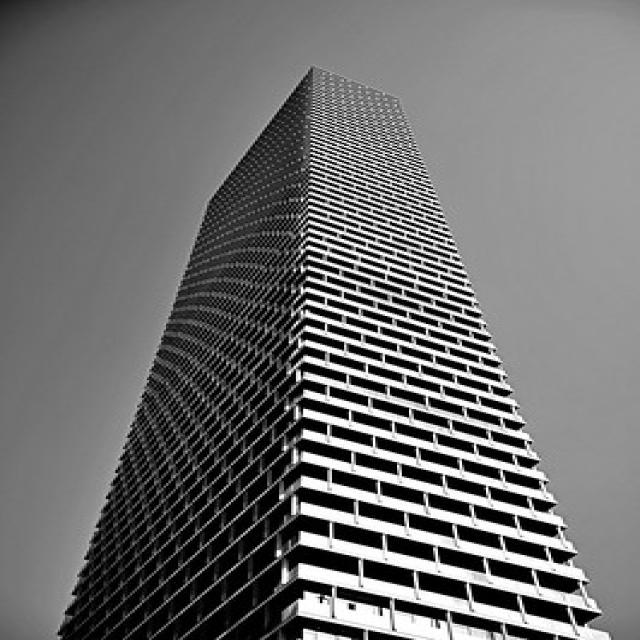building: (45, 56, 624, 637)
